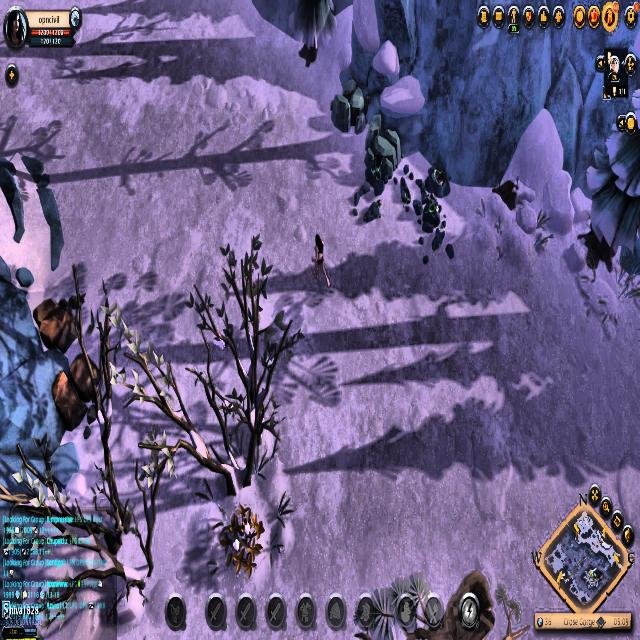cotton: (219, 492, 268, 580)
limestone: (29, 296, 80, 358), (50, 358, 96, 419)
sandstone: (327, 74, 370, 138)
tin_ore: (366, 150, 389, 194)
